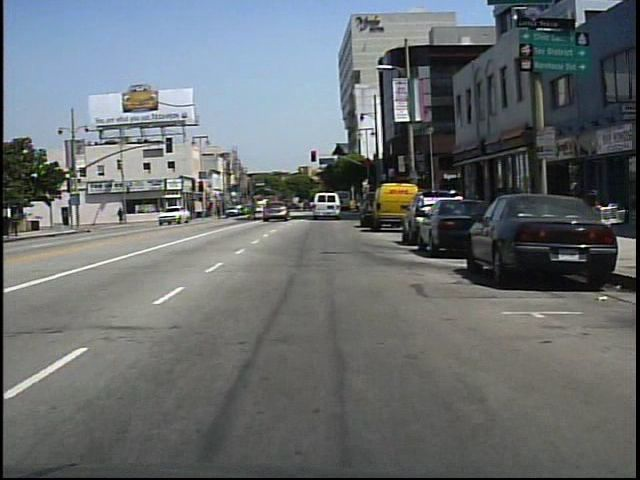person: (247, 193, 264, 222), (117, 206, 125, 224)
